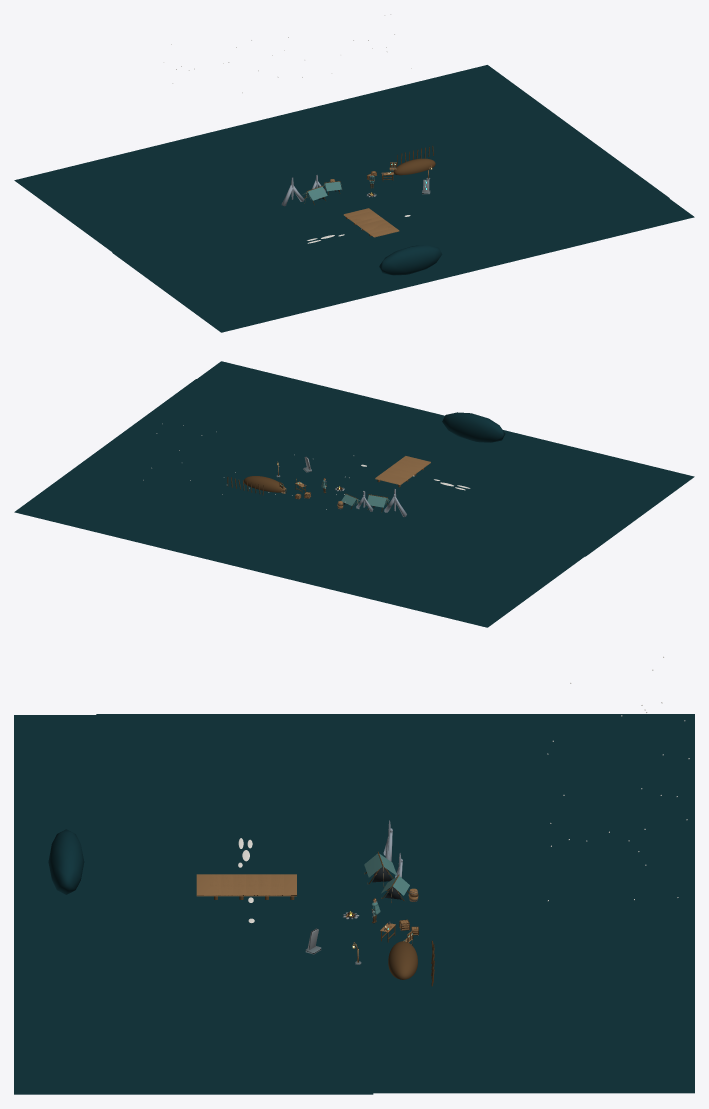
The model's file is 3D模型 scene_night_beach.glb.
3 renders of one model, top to bottom at view 1: azimuth 30°, elevation 25°; view 2: azimuth 150°, elevation 25°; view 3: azimuth 270°, elevation 25°, orthographic. The views are drawn at different scales.
Visible parts, largest first — view 1: night_sand, night_sea, far_ship, wreck_hull; view 2: night_sand, night_sea, far_ship, wreck_hull; view 3: night_sand, night_sea, far_ship, wreck_hull.
Boxes of the visible parts, x1,y1,x2,y2 form: night_sand: [14, 65, 669, 313]; night_sea: [112, 198, 694, 332]; far_ship: [379, 245, 442, 275]; wreck_hull: [393, 158, 435, 175]; night_sand: [14, 379, 669, 627]; night_sea: [197, 361, 694, 556]; far_ship: [442, 412, 505, 442]; wreck_hull: [243, 476, 285, 492]; night_sand: [96, 714, 694, 1093]; night_sea: [14, 715, 373, 1094]; far_ship: [48, 829, 84, 894]; wreck_hull: [388, 941, 417, 979].
Bounding box in the file's own units: 60 × 14.04 × 45.5.
